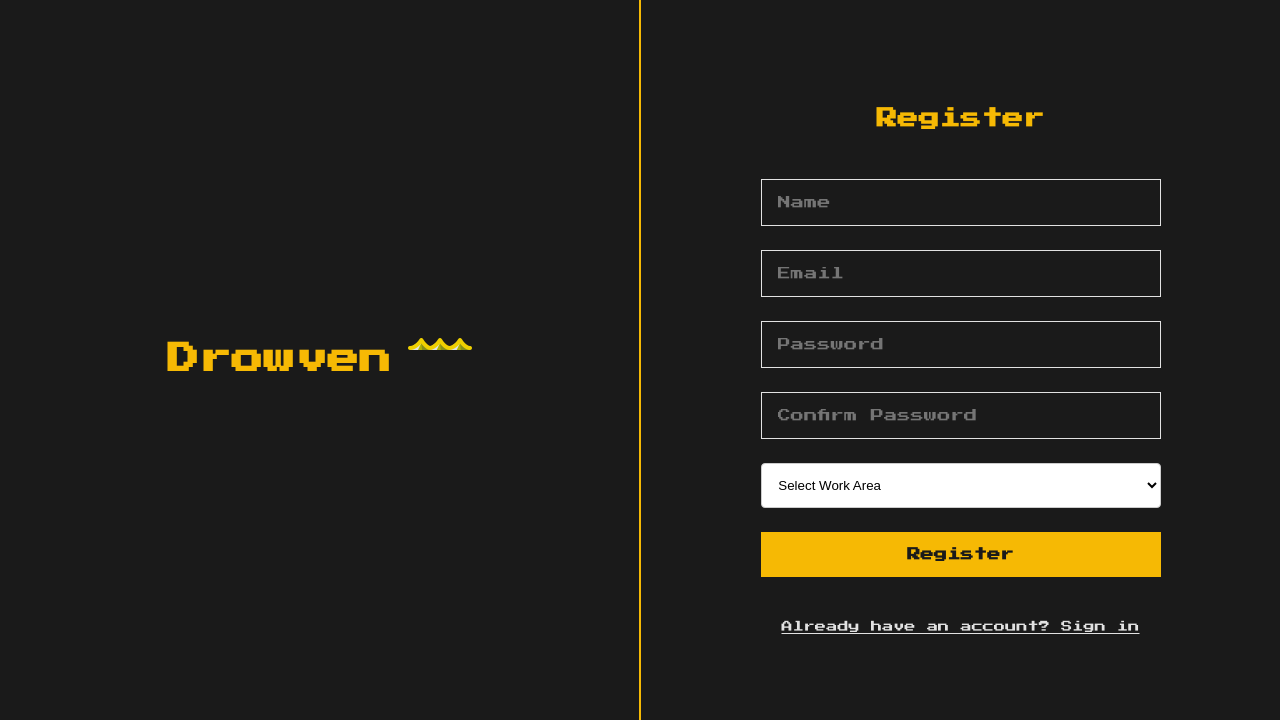
Scenario: Registration Component › displays validation messages on empty submit
This screenshot has width=1280, height=720.
What coordinates should you click on to do the following:
click the button "Register"
I would click on:
 (960, 554)
Its box is [760,532,1160,577].
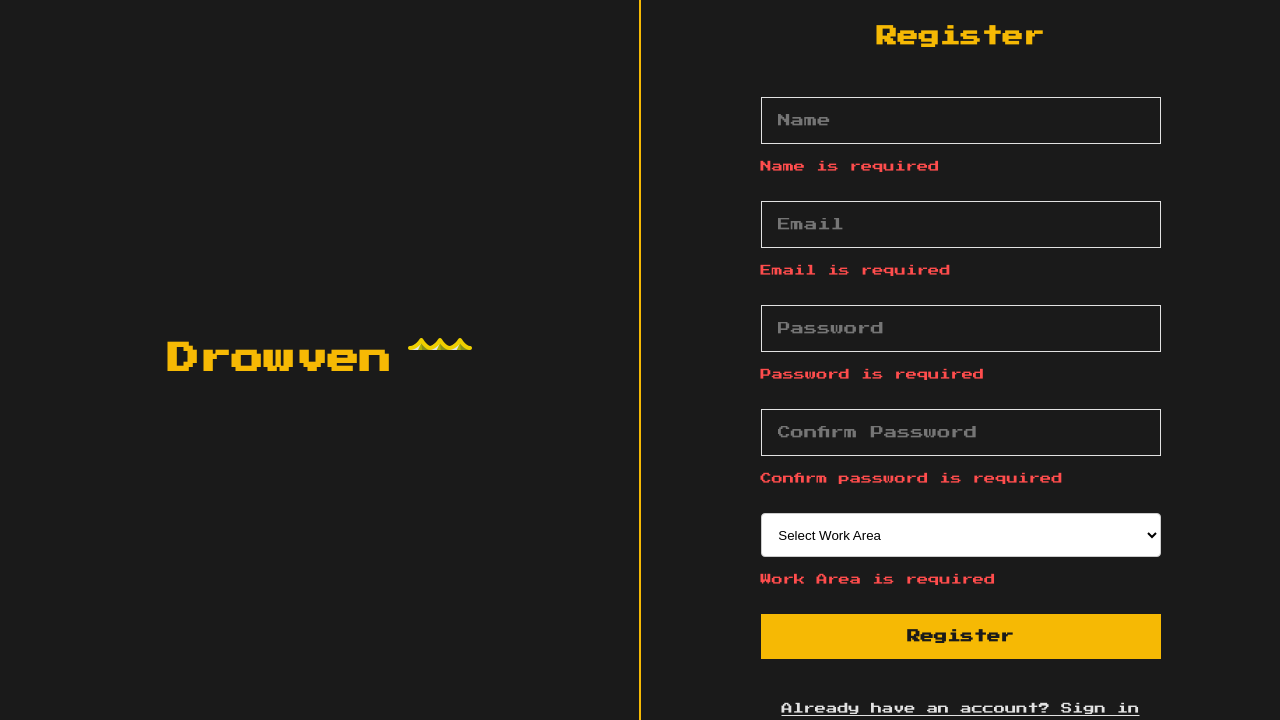
Result: the text "Name is required" is shown at [760,161,940,172]
Result: the text "Email is required" is shown at [760,265,951,276]
Result: the text "Password is required" is shown at [760,369,984,380]
